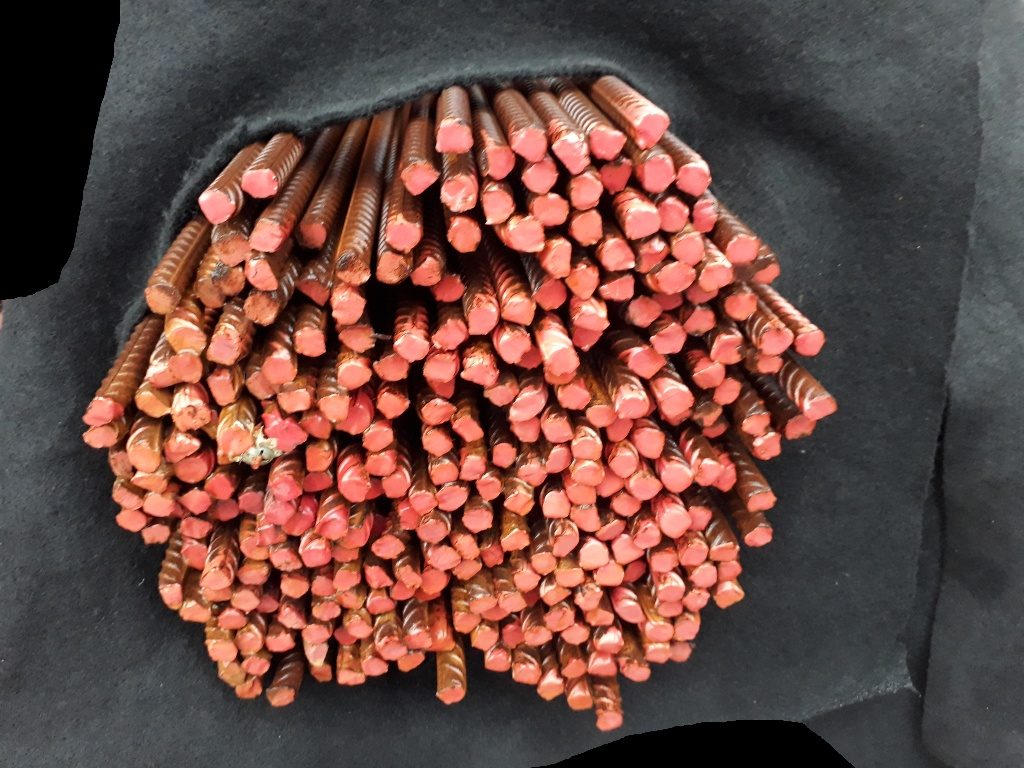dipstick: (260, 405, 308, 452), (332, 392, 376, 434), (171, 387, 212, 431), (553, 131, 592, 175), (565, 169, 603, 213), (194, 188, 236, 226), (595, 233, 634, 273), (443, 216, 483, 255), (506, 214, 545, 253), (206, 365, 244, 405), (518, 159, 560, 195), (439, 175, 480, 211), (213, 227, 249, 267), (673, 161, 714, 196), (163, 428, 204, 463), (219, 426, 256, 464), (587, 124, 626, 160), (597, 156, 633, 195), (330, 285, 366, 324), (401, 160, 441, 195), (512, 124, 547, 164), (722, 232, 762, 267), (659, 387, 694, 427), (541, 238, 574, 280), (540, 344, 583, 376), (639, 154, 676, 191), (632, 113, 670, 149), (567, 260, 602, 299), (166, 322, 208, 354), (478, 145, 516, 180), (669, 230, 707, 265), (247, 218, 285, 253), (241, 291, 279, 326), (481, 185, 515, 224), (634, 237, 668, 276), (77, 396, 126, 423), (605, 439, 638, 479), (434, 121, 475, 153), (385, 218, 422, 253), (627, 294, 664, 329), (134, 383, 171, 418), (655, 261, 698, 291), (170, 451, 210, 483), (239, 168, 280, 199), (336, 323, 377, 354), (462, 351, 497, 387), (630, 345, 667, 379), (622, 206, 660, 239), (466, 298, 499, 336), (207, 334, 245, 367), (531, 195, 572, 225), (657, 198, 692, 233), (494, 330, 529, 365), (431, 316, 467, 350), (393, 331, 430, 364), (577, 534, 610, 571), (571, 210, 603, 248), (313, 391, 351, 423), (334, 255, 373, 286), (245, 256, 281, 289), (509, 384, 545, 417), (295, 274, 332, 306), (144, 282, 182, 313), (291, 327, 329, 358), (707, 334, 746, 364), (79, 422, 124, 448), (262, 353, 298, 385), (598, 273, 636, 303), (650, 323, 688, 353), (695, 262, 734, 291), (265, 473, 304, 502), (631, 427, 665, 460), (376, 252, 411, 284), (432, 272, 467, 304), (572, 425, 604, 460), (298, 410, 335, 440), (421, 396, 458, 426), (335, 361, 373, 390), (692, 357, 726, 389), (502, 296, 537, 327), (658, 508, 693, 539), (658, 464, 694, 494), (374, 353, 411, 382), (280, 506, 317, 535), (410, 255, 442, 288), (212, 264, 245, 296), (683, 306, 717, 337), (420, 426, 454, 457), (422, 351, 457, 381), (540, 413, 575, 443), (376, 390, 412, 419), (693, 197, 721, 234), (277, 387, 314, 415), (628, 472, 665, 500), (721, 292, 759, 319), (193, 278, 226, 309), (169, 352, 203, 382), (108, 481, 143, 510), (569, 458, 606, 485), (129, 442, 161, 473), (362, 422, 394, 453), (381, 466, 411, 499), (393, 497, 423, 530), (612, 534, 645, 564), (555, 383, 590, 411), (536, 277, 563, 313), (784, 414, 820, 441), (370, 534, 406, 561), (246, 370, 277, 401), (543, 444, 574, 475), (654, 573, 686, 603), (751, 431, 784, 460), (304, 443, 337, 472), (435, 483, 468, 512), (712, 581, 746, 609), (758, 329, 793, 356), (363, 449, 398, 476), (314, 513, 349, 540), (415, 518, 450, 545), (477, 538, 507, 569), (570, 324, 603, 352), (300, 541, 333, 569), (452, 414, 485, 442), (293, 223, 327, 250), (361, 561, 395, 588), (572, 309, 610, 333), (143, 365, 186, 386), (235, 625, 264, 656), (796, 330, 828, 358), (570, 504, 602, 532), (503, 489, 535, 517), (484, 382, 521, 406), (613, 598, 647, 624), (805, 395, 840, 420), (596, 467, 625, 497), (683, 281, 719, 305), (337, 477, 370, 503), (538, 669, 564, 702), (647, 547, 680, 573), (610, 491, 643, 517), (427, 459, 461, 484), (264, 497, 293, 526), (475, 472, 504, 501), (566, 682, 595, 711), (542, 489, 571, 518), (750, 263, 785, 287), (712, 377, 742, 405), (105, 449, 135, 477), (238, 534, 269, 561), (593, 626, 624, 653), (694, 457, 721, 488), (179, 488, 211, 514), (236, 490, 268, 516), (510, 661, 542, 687), (753, 354, 786, 379), (427, 545, 460, 570), (619, 659, 652, 684), (131, 471, 168, 493), (470, 623, 498, 652), (207, 636, 237, 663), (206, 471, 233, 501), (420, 566, 450, 593), (688, 561, 718, 588), (500, 527, 531, 553), (679, 541, 710, 567), (742, 413, 774, 438), (144, 491, 176, 516), (337, 523, 369, 548), (544, 607, 576, 632), (301, 469, 334, 493), (461, 509, 494, 533), (692, 401, 725, 425), (459, 452, 487, 480), (453, 534, 482, 561), (589, 651, 618, 678), (587, 404, 621, 427), (510, 416, 541, 441), (114, 509, 149, 531), (215, 661, 247, 685), (265, 629, 298, 652), (256, 523, 289, 546), (521, 624, 554, 647), (396, 563, 424, 590), (182, 543, 211, 569), (234, 674, 264, 699), (452, 609, 482, 634), (594, 561, 624, 586), (681, 587, 711, 612), (236, 563, 270, 585), (746, 489, 780, 511), (620, 395, 651, 419), (742, 523, 773, 547), (199, 566, 231, 589), (270, 549, 302, 572), (634, 522, 661, 549), (490, 441, 517, 468), (277, 605, 306, 630), (345, 614, 374, 639), (687, 503, 712, 532), (181, 515, 211, 539), (408, 491, 438, 515), (278, 576, 309, 599), (540, 583, 571, 606), (574, 587, 605, 610), (500, 623, 526, 650), (531, 550, 558, 576), (607, 415, 634, 441), (514, 568, 542, 593), (517, 461, 546, 485), (240, 653, 270, 676), (596, 517, 626, 540), (651, 289, 682, 311), (140, 523, 171, 545), (396, 651, 427, 673), (498, 590, 529, 612), (376, 641, 410, 661), (300, 623, 332, 644), (310, 601, 342, 622), (483, 648, 511, 672), (551, 534, 579, 558), (672, 618, 700, 642), (211, 502, 246, 521), (716, 464, 738, 494), (711, 541, 742, 562), (179, 597, 205, 622), (302, 641, 328, 666), (158, 583, 181, 611), (233, 589, 261, 612), (405, 628, 433, 651), (567, 482, 596, 504), (561, 624, 591, 645), (645, 622, 675, 643), (643, 644, 673, 665), (311, 574, 337, 598), (216, 610, 247, 630), (596, 711, 624, 733), (436, 685, 466, 705), (554, 567, 584, 587), (333, 568, 359, 591), (388, 580, 416, 601), (265, 686, 294, 706), (361, 656, 390, 676), (622, 560, 646, 584), (331, 544, 361, 563), (583, 609, 616, 626), (367, 597, 398, 615), (562, 657, 587, 679), (338, 668, 366, 687), (427, 379, 455, 398), (470, 596, 498, 615), (671, 641, 693, 664), (334, 624, 358, 645), (432, 632, 456, 653), (718, 561, 743, 580), (258, 593, 281, 612), (655, 602, 685, 616), (311, 663, 333, 682), (413, 590, 442, 604), (700, 424, 727, 438)
